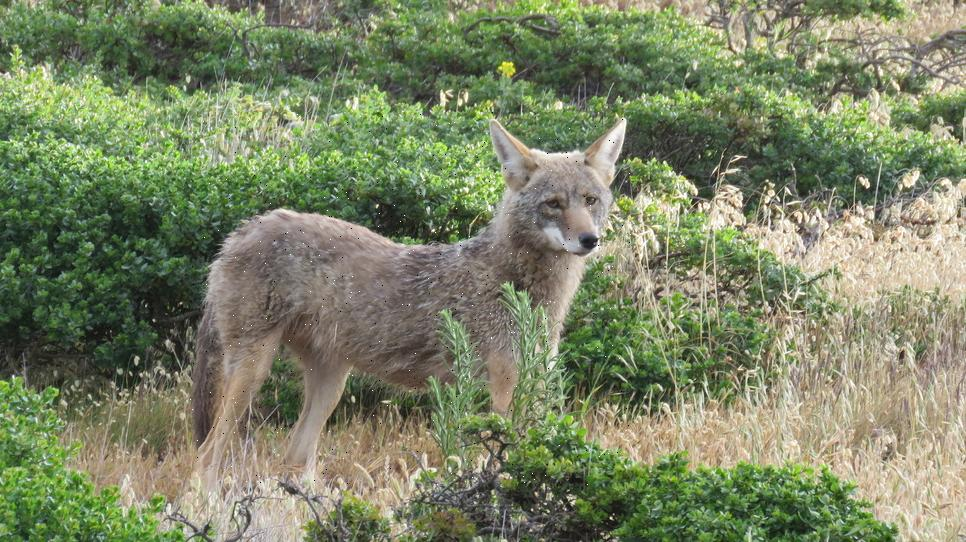Coyote: (184, 113, 631, 486)
